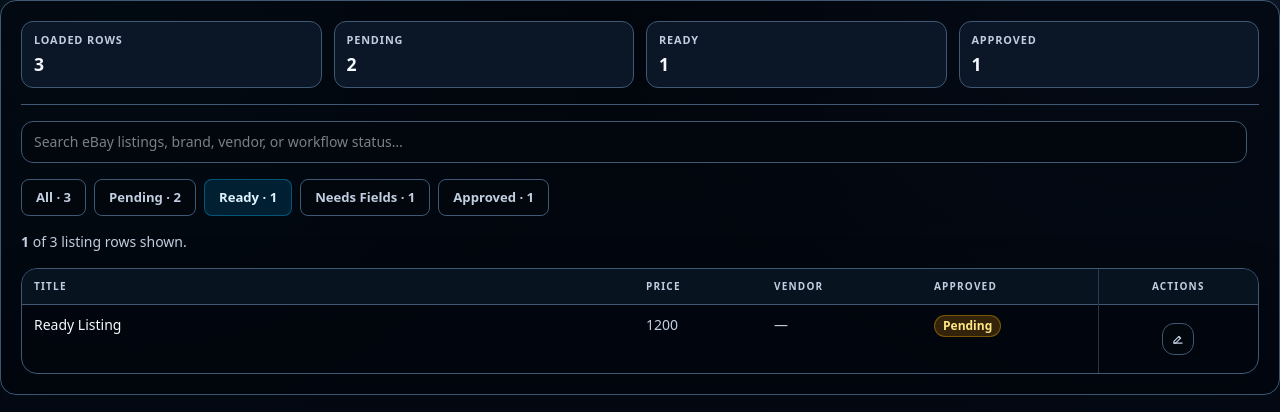
Scenario: ListingApprovalQueuePanel › applies quick filters on eBay queue rows
What coordinates should you click on to do the following:
click the button "Needs Fields · 1"
I would click on:
 (365, 198)
Its box is [300,179,430,216].
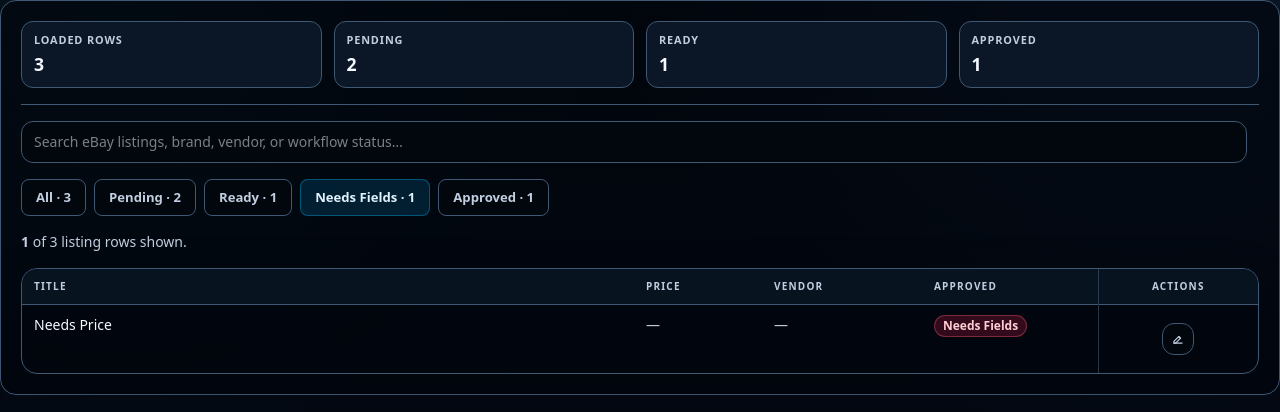
Check: the text "Approved Listing" is not shown
Check: the text "Needs Price" is shown, box [34,315,112,334]
Check: the text "Ready Listing" is gone
What coordinates should you click on to do the following:
click the button "Approved · 1"
I would click on:
 (494, 198)
Its box is [438,179,549,216].
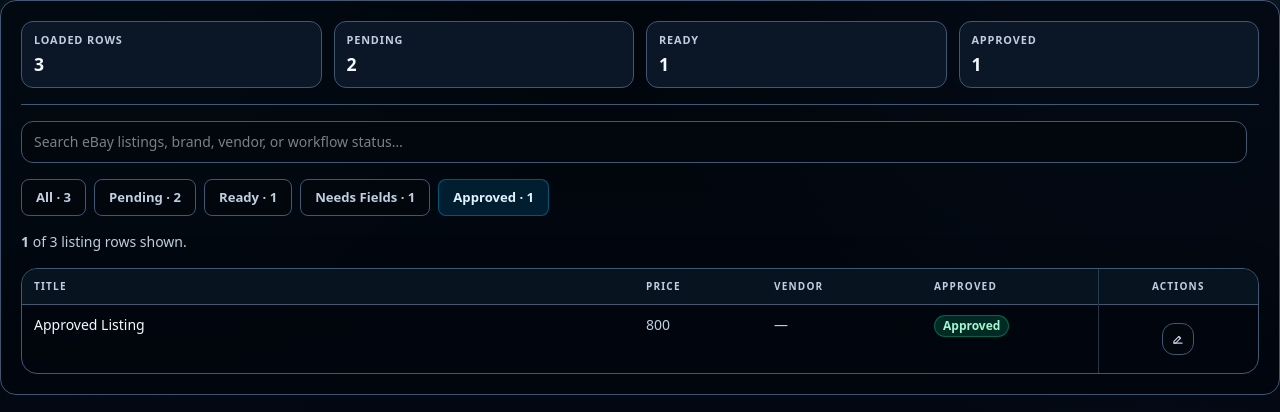
Check: the text "Approved Listing" is shown, box [34,315,145,334]
Check: the text "Needs Price" is gone
